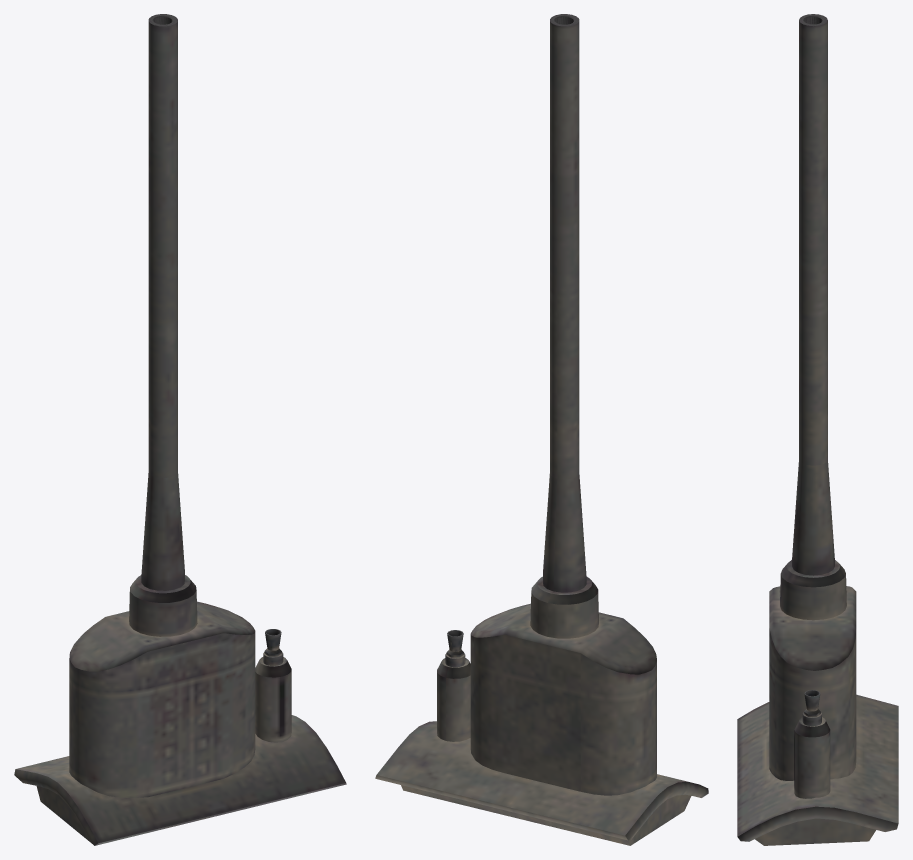
The model's file is Gun_05.glb.
The picture shows the model from 3 angles, left to right: view 1: azimuth 30°, elevation 25°; view 2: azimuth 150°, elevation 25°; view 3: azimuth 270°, elevation 25°; orthographic projection. The views are drawn at different scales.
Visible parts, largest first — view 1: set_0_group_0; view 2: set_0_group_0; view 3: set_0_group_0.
Boxes of the visible parts, bbox=[...] form: set_0_group_0: bbox=[14, 14, 346, 845]; set_0_group_0: bbox=[375, 14, 708, 845]; set_0_group_0: bbox=[737, 14, 898, 845].
Bounding box in the file's own units: 0.7787 × 2.31 × 0.443.
1 material, 1 textured.
